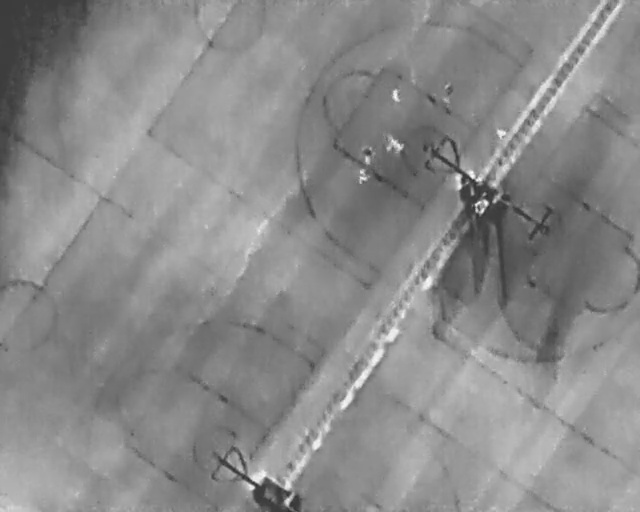Person: (377, 130, 408, 161), (453, 166, 478, 190), (470, 195, 491, 219), (360, 143, 375, 166), (442, 80, 454, 103), (390, 85, 402, 107), (357, 167, 370, 185), (496, 126, 508, 140)
